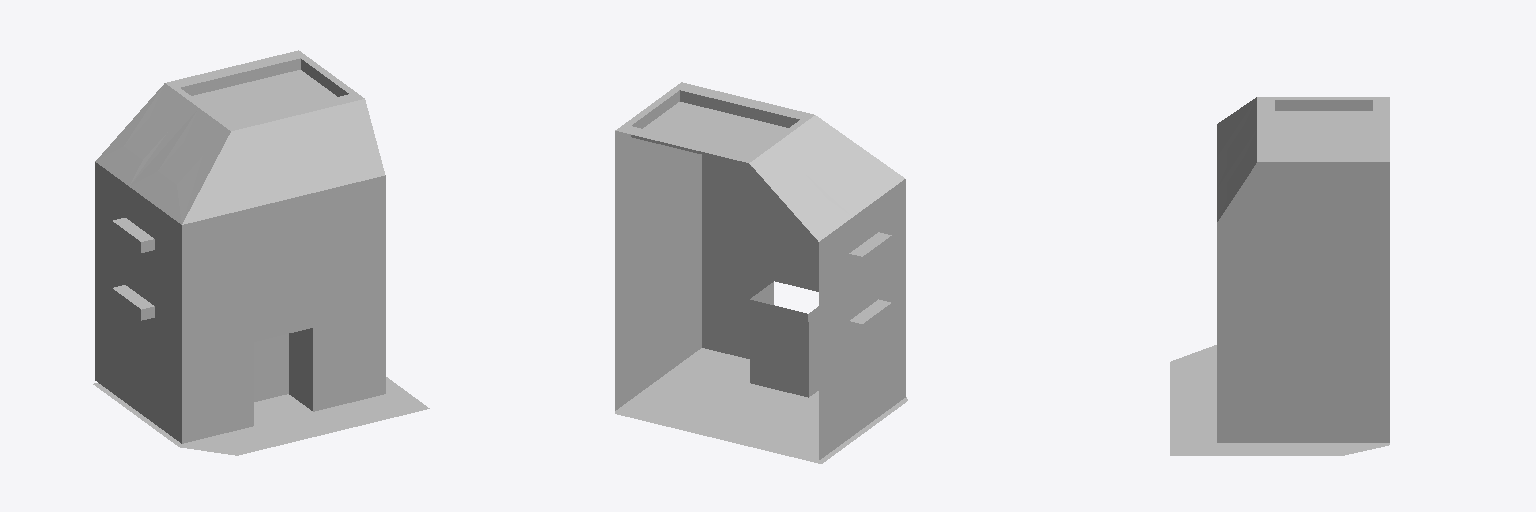
Rendered from Oreburgh City Building.obj.
3 views of the same model, side by side, from view 1: azimuth 30°, elevation 25°; view 2: azimuth 150°, elevation 25°; view 3: azimuth 270°, elevation 25° (orthographic).
Parts seen in each view (by area): view 1: polygon2, polygon0, polygon1; view 2: polygon2, polygon0, polygon1; view 3: polygon2, polygon0.
Part boxes in pixels (bbox=[...]): polygon2: bbox=[95, 50, 385, 443]; polygon0: bbox=[93, 377, 429, 455]; polygon1: bbox=[211, 200, 355, 336]; polygon2: bbox=[615, 82, 905, 459]; polygon0: bbox=[615, 348, 907, 463]; polygon1: bbox=[727, 161, 817, 284]; polygon2: bbox=[1217, 97, 1389, 442]; polygon0: bbox=[1170, 345, 1389, 455].
Bounding box in the file's own units: 89 × 101 × 71.